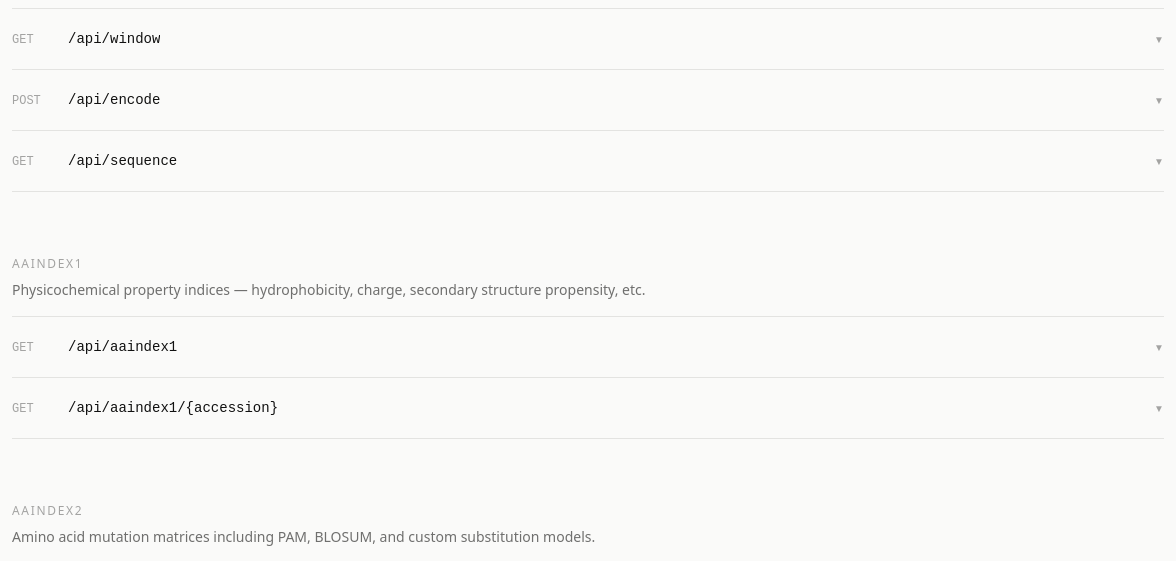
the Try-it box only calls this origin › refuses an off-origin target
The width and height of the screenshot is (1176, 561).
(page scrolled)
Click the button "GET /api/aaindex1 ▼" at (123,347), box [12, 317, 1164, 377]
(page scrolled)
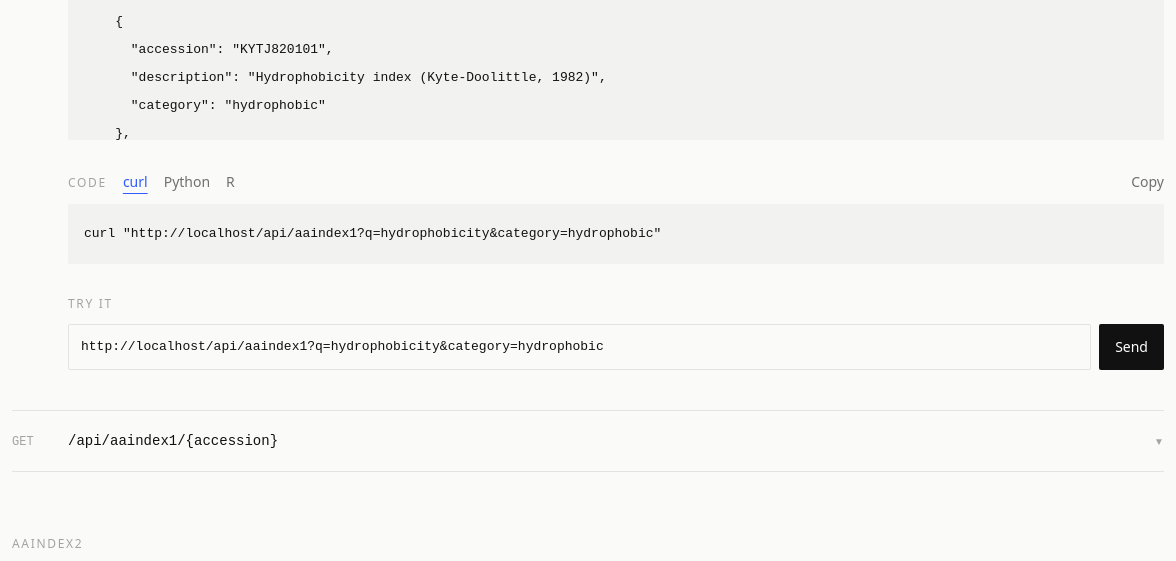
Replace the text in the field with "https://example.com/steal" at (580,347), box [68, 324, 1091, 370]
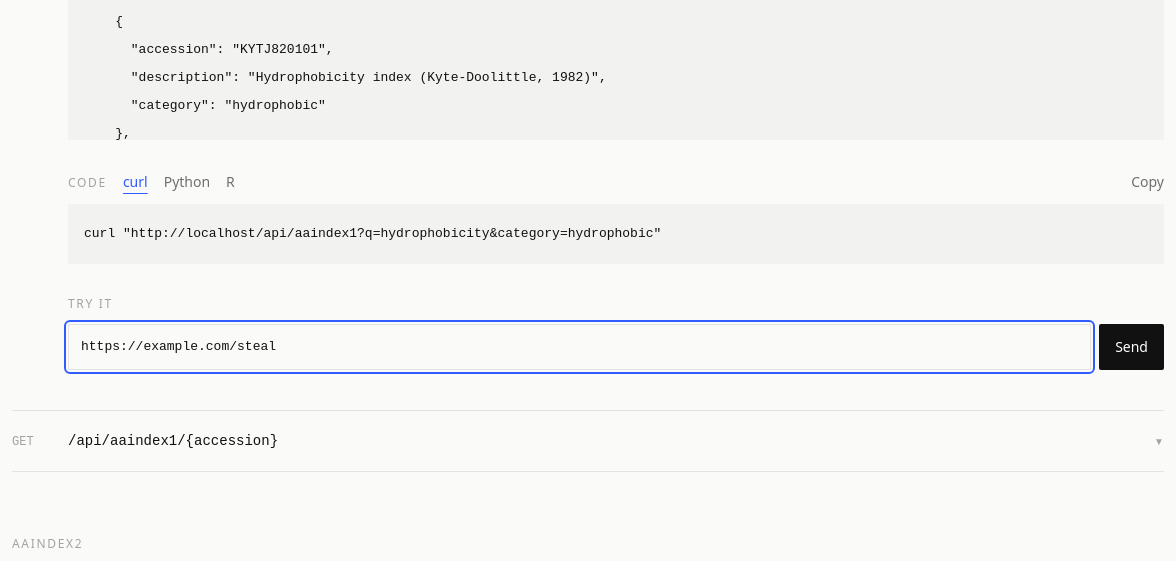
Click the button "Send" at (1132,347), box [1099, 324, 1164, 370]
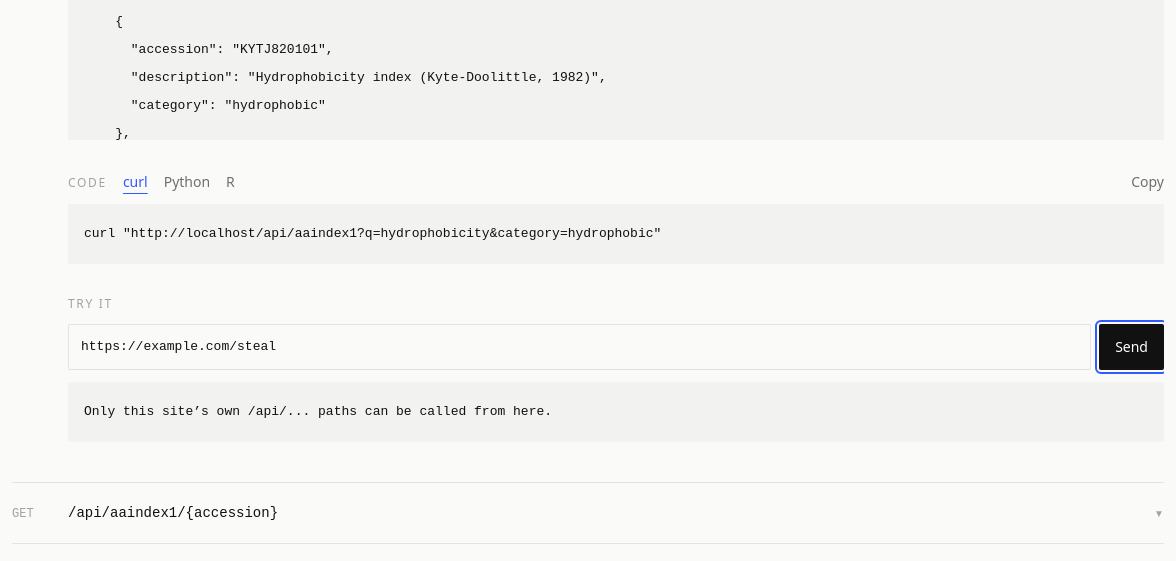
Result: the text "Only this site’s own /api/... paths can be called from here." is shown at [68, 382, 1164, 442]
